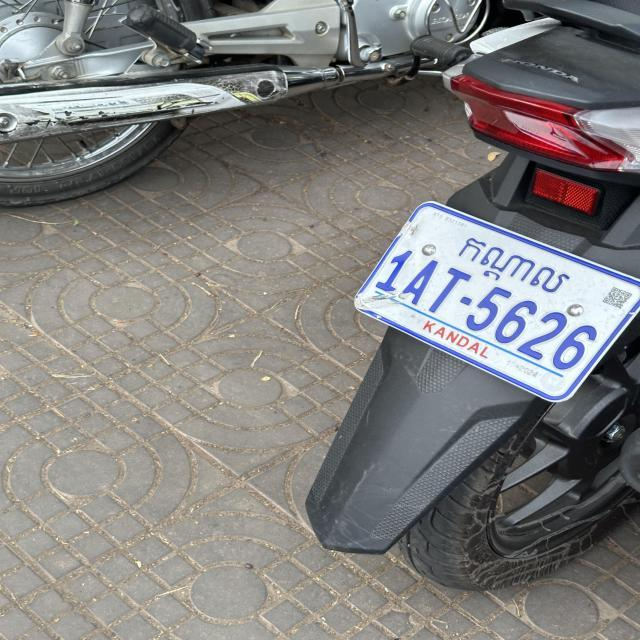Kandal: (458, 235, 573, 296)
